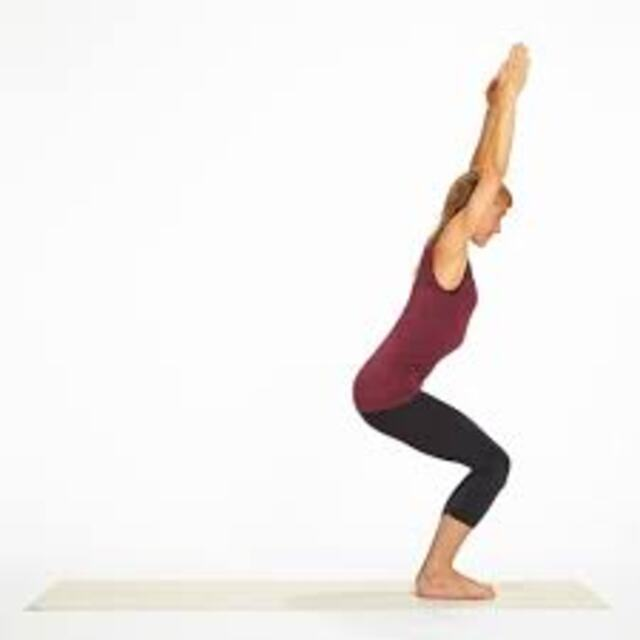Squat_Pose: (349, 40, 529, 603)
